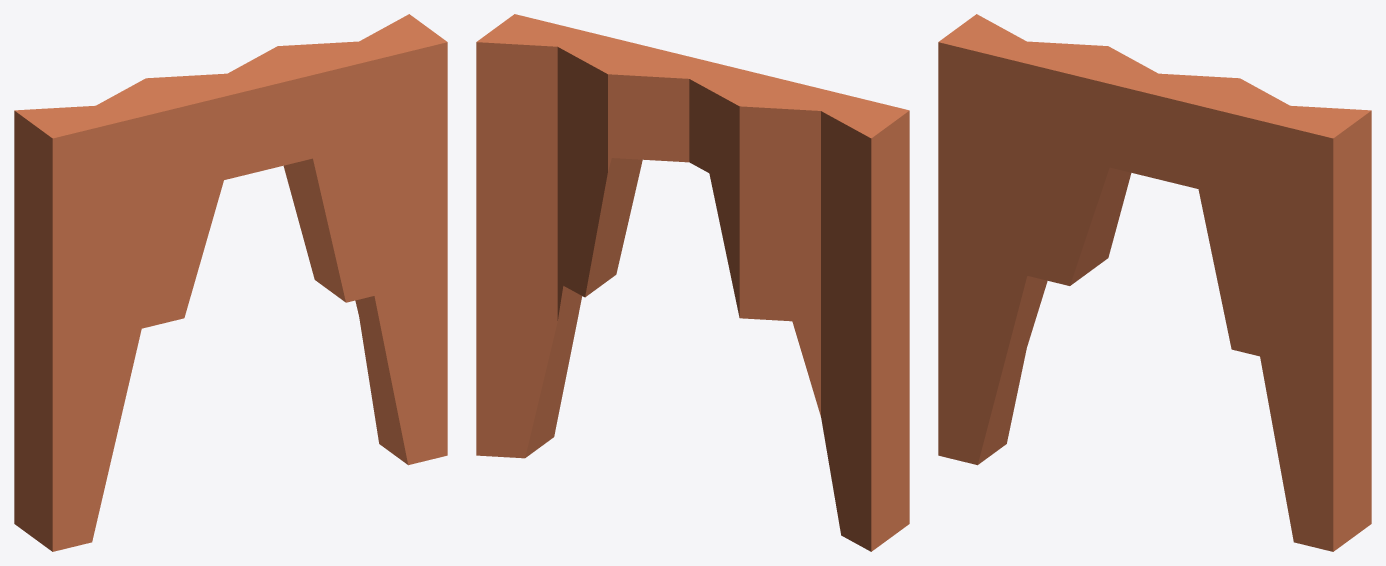
File: cliff_cave_rock.glb
3 renders of one model, left to right at view 1: azimuth 30°, elevation 25°; view 2: azimuth 150°, elevation 25°; view 3: azimuth 330°, elevation 25°, orthographic.
Parts seen in each view (by area): view 1: cliff_cave_rock; view 2: cliff_cave_rock; view 3: cliff_cave_rock.
Part boxes in pixels (x1,y1,x2,y2): cliff_cave_rock: (14,14,447,551); cliff_cave_rock: (476,14,909,551); cliff_cave_rock: (938,14,1371,551).
Size of the model in its own units: 1 by 1 by 0.1685.
